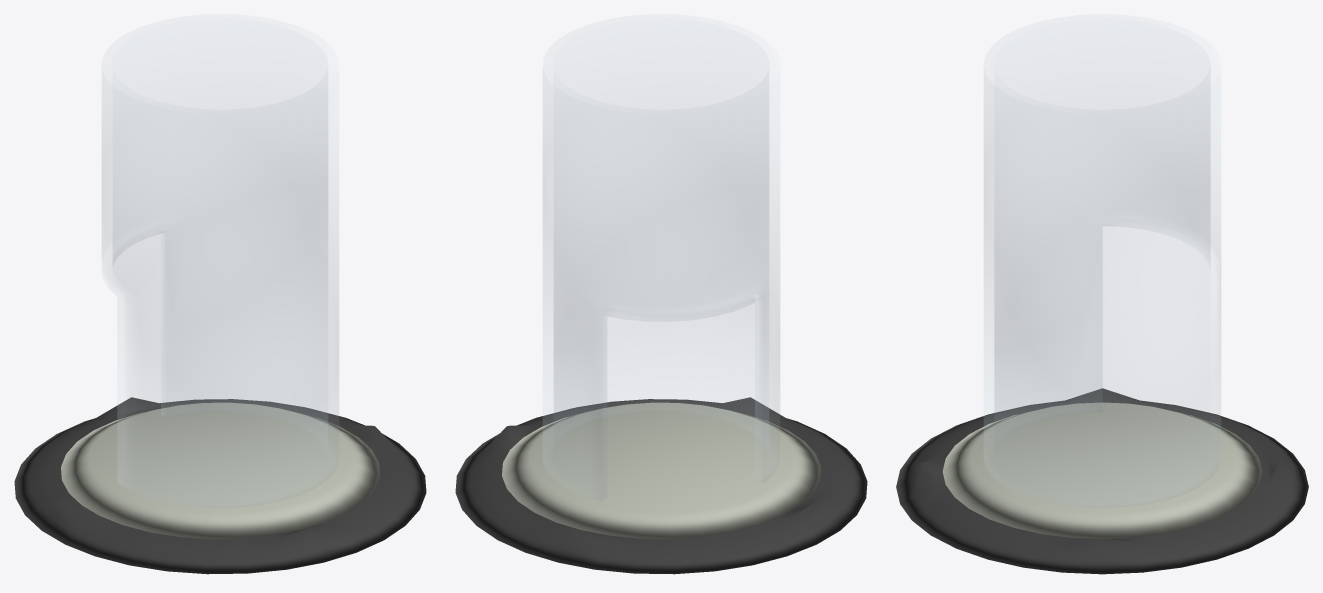
The model's file is ElevatorGlass.fbx.
3 views of the same model, side by side, from view 1: azimuth 30°, elevation 25°; view 2: azimuth 150°, elevation 25°; view 3: azimuth 270°, elevation 25° (orthographic).
Visible parts, largest first — view 1: ElevatorGlass, ElevatorBottom, ElevatorBottom.001; view 2: ElevatorGlass, ElevatorBottom, ElevatorBottom.001; view 3: ElevatorGlass, ElevatorBottom, ElevatorBottom.001.
Boxes of the visible parts, box(x1,y1,x2,y2) form: ElevatorGlass: box(102, 19, 338, 507); ElevatorBottom: box(61, 402, 379, 538); ElevatorBottom.001: box(14, 397, 426, 574); ElevatorGlass: box(543, 19, 779, 500); ElevatorBottom: box(502, 402, 820, 538); ElevatorBottom.001: box(455, 397, 867, 574); ElevatorGlass: box(984, 19, 1220, 507); ElevatorBottom: box(942, 402, 1262, 538); ElevatorBottom.001: box(896, 388, 1308, 574).
Bounding box in the file's own units: 625 × 811 × 625.
